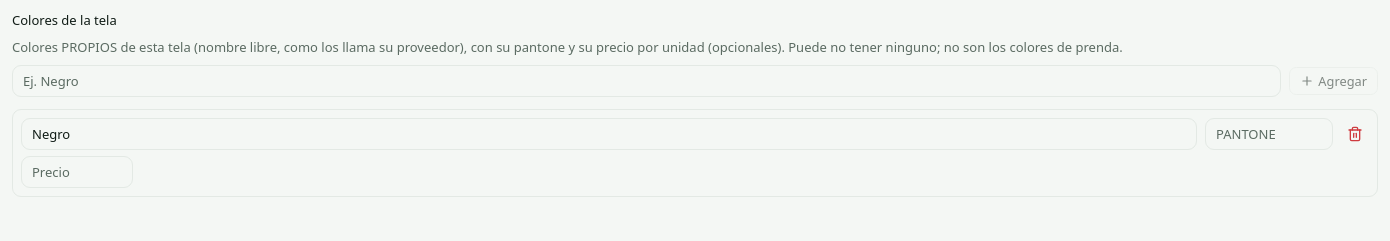
it: <EditorColoresTela> › NO deja agregar dos veces el mismo nombre (insensible a mayúsculas)
The width and height of the screenshot is (1390, 241).
Type "NEGRO" into the field with test id "nombre-agregar-color".
click(647, 81); type("NEGRO")  # box [12, 65, 1281, 97]
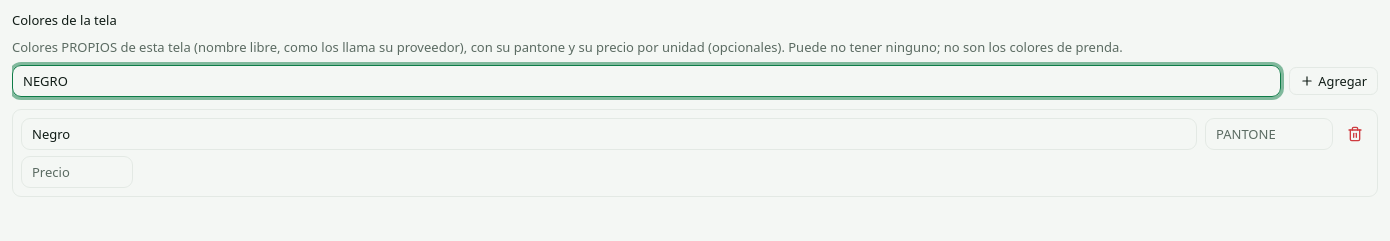
Click the button with test id "agregar-color".
click(1334, 81)  # box [1289, 67, 1378, 95]
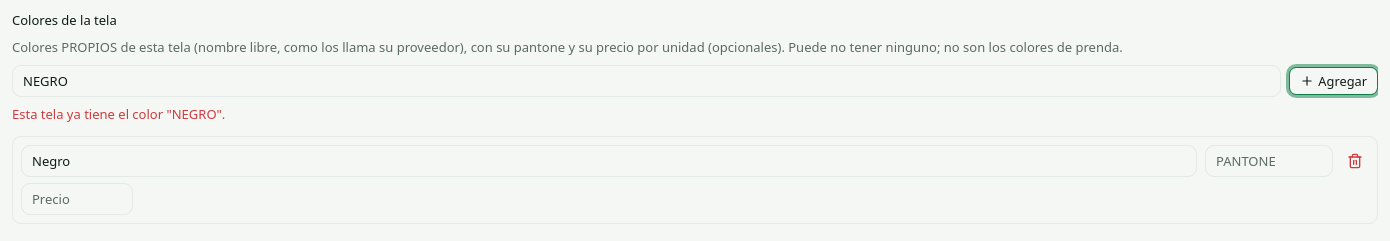
expect the message with test id "error-agregar-color" reads "Esta tela ya tiene el color \"NEGRO\".": met, box [12, 105, 225, 123]
